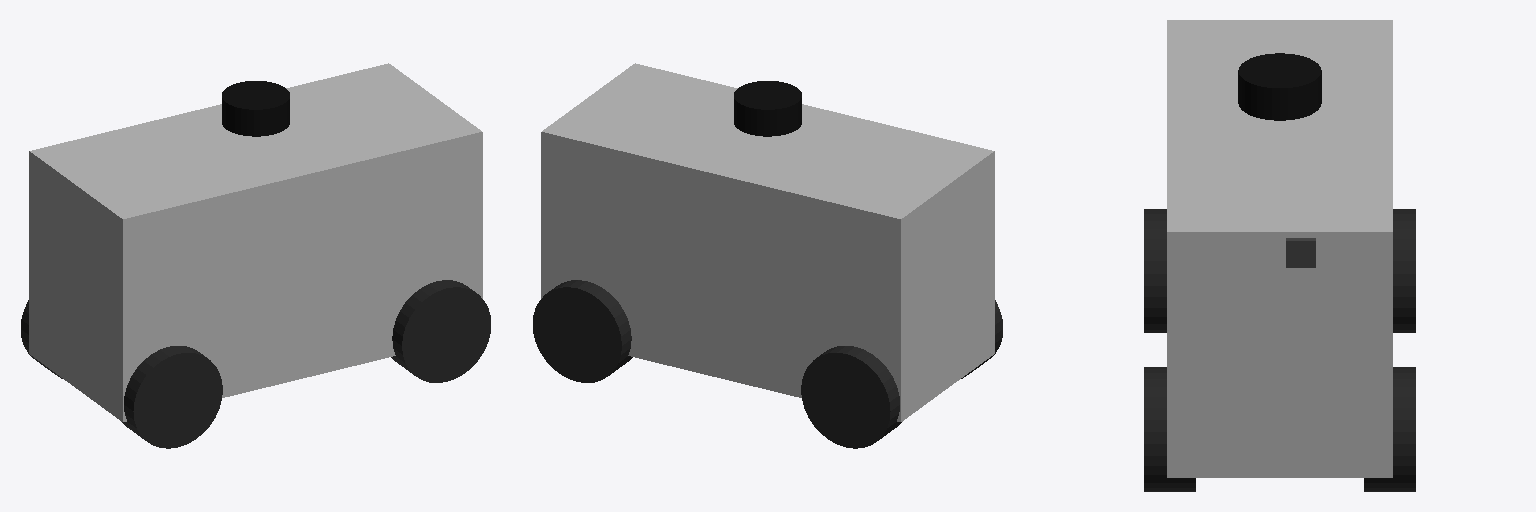
The robot description file, URDF, robot "scorpio":
<?xml version="1.0"?>
<!-- Scorpio Ackermann RViz visualization URDF -->
<robot name="scorpio">

  <!-- base_footprint: ground projection -->
  <link name="base_footprint"/>

  <!-- base_link: robot body center at ground level -->
  <link name="base_link">
    <visual>
      <origin xyz="0 0 0.1463" rpy="0 0 0"/>
      <geometry>
        <box size="0.422 0.190 0.2276"/>
      </geometry>
      <material name="silver">
        <color rgba="0.75 0.75 0.75 1.0"/>
      </material>
    </visual>
  </link>

  <joint name="base_footprint_to_base_link" type="fixed">
    <parent link="base_footprint"/>
    <child link="base_link"/>
    <origin xyz="0 0 0" rpy="0 0 0"/>
  </joint>

  <!-- IMU_link -->
  <link name="IMU_link"/>
  <joint name="imu_joint" type="fixed">
    <parent link="base_link"/>
    <child link="IMU_link"/>
    <origin xyz="0.16 0.04 0.175" rpy="0 0 0"/>
  </joint>

  <!-- lidar_link -->
  <link name="lidar_link">
    <visual>
      <origin xyz="0 0 0.015" rpy="0 0 0"/>
      <geometry>
        <cylinder radius="0.035" length="0.03"/>
      </geometry>
      <material name="black">
        <color rgba="0.1 0.1 0.1 1.0"/>
      </material>
    </visual>
  </link>
  <joint name="lidar_joint" type="fixed">
    <parent link="base_link"/>
    <child link="lidar_link"/>
    <origin xyz="0 0 0.28172" rpy="0 0 0"/>
  </joint>

  <!-- D435 camera -->
  <link name="d435_link">
    <visual>
      <origin xyz="0 0 0" rpy="0 0 0"/>
      <geometry>
        <box size="0.090 0.025 0.025"/>
      </geometry>
      <material name="dark_gray">
        <color rgba="0.3 0.3 0.3 1.0"/>
      </material>
    </visual>
  </link>
  <joint name="d435_joint" type="fixed">
    <parent link="base_link"/>
    <child link="d435_link"/>
    <origin xyz="0.1706 0.0175 0.242" rpy="0 0 0"/>
  </joint>

  <!-- Wheels (visual only) -->
  <link name="left_rear_wheel">
    <visual>
      <origin xyz="0 0 0" rpy="1.5708 0 0"/>
      <geometry><cylinder radius="0.0525" length="0.044"/></geometry>
      <material name="tire"><color rgba="0.2 0.2 0.2 1.0"/></material>
    </visual>
  </link>
  <joint name="left_rear_wheel_joint" type="fixed">
    <parent link="base_link"/>
    <child link="left_rear_wheel"/>
    <origin xyz="-0.1575 0.0928 0.0525" rpy="0 0 0"/>
  </joint>

  <link name="right_rear_wheel">
    <visual>
      <origin xyz="0 0 0" rpy="1.5708 0 0"/>
      <geometry><cylinder radius="0.0525" length="0.044"/></geometry>
      <material name="tire"/>
    </visual>
  </link>
  <joint name="right_rear_wheel_joint" type="fixed">
    <parent link="base_link"/>
    <child link="right_rear_wheel"/>
    <origin xyz="-0.1575 -0.0928 0.0525" rpy="0 0 0"/>
  </joint>

  <link name="left_front_wheel">
    <visual>
      <origin xyz="0 0 0" rpy="1.5708 0 0"/>
      <geometry><cylinder radius="0.0525" length="0.044"/></geometry>
      <material name="tire"/>
    </visual>
  </link>
  <joint name="left_front_wheel_joint" type="fixed">
    <parent link="base_link"/>
    <child link="left_front_wheel"/>
    <origin xyz="0.1575 0.0928 0.0525" rpy="0 0 0"/>
  </joint>

  <link name="right_front_wheel">
    <visual>
      <origin xyz="0 0 0" rpy="1.5708 0 0"/>
      <geometry><cylinder radius="0.0525" length="0.044"/></geometry>
      <material name="tire"/>
    </visual>
  </link>
  <joint name="right_front_wheel_joint" type="fixed">
    <parent link="base_link"/>
    <child link="right_front_wheel"/>
    <origin xyz="0.1575 -0.0928 0.0525" rpy="0 0 0"/>
  </joint>

</robot>

--- Render facts (derived) ---
3 views of the same robot in one strip: view 1: azimuth 30°, elevation 25°; view 2: azimuth 150°, elevation 25°; view 3: azimuth 270°, elevation 25° (orthographic).
Model scorpio with 9 links and 8 joints (8 fixed), rooted at base_footprint, posed all joints at 0.
Visible links, largest first — view 1: base_link, right_front_wheel, right_rear_wheel, lidar_link; view 2: base_link, left_front_wheel, left_rear_wheel, lidar_link; view 3: base_link, lidar_link, left_front_wheel, right_front_wheel, left_rear_wheel, right_rear_wheel, d435_link.
Boxes of the visible links, x1,y1,x2,y2 form: base_link: [29, 63, 482, 421]; right_front_wheel: [391, 280, 490, 382]; right_rear_wheel: [122, 346, 222, 448]; lidar_link: [222, 81, 289, 136]; base_link: [541, 63, 994, 421]; left_front_wheel: [533, 280, 632, 382]; left_rear_wheel: [801, 346, 901, 448]; lidar_link: [734, 81, 801, 136]; base_link: [1167, 20, 1392, 477]; lidar_link: [1238, 53, 1321, 120]; left_front_wheel: [1364, 367, 1415, 491]; right_front_wheel: [1144, 367, 1195, 491]; left_rear_wheel: [1393, 209, 1415, 332]; right_rear_wheel: [1144, 209, 1166, 332]; d435_link: [1286, 238, 1315, 267].
Bounding box of the posed robot: 0.4266 × 0.2296 × 0.3117 m (x, y, z).
Geometry: primitives only (box / cylinder / sphere), no mesh files.
